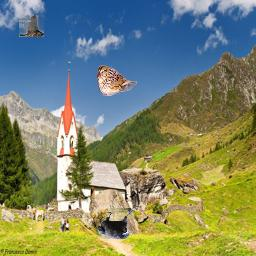Crow: (97, 208, 135, 239)
Sparrow: (97, 65, 137, 96), (19, 15, 44, 37)
